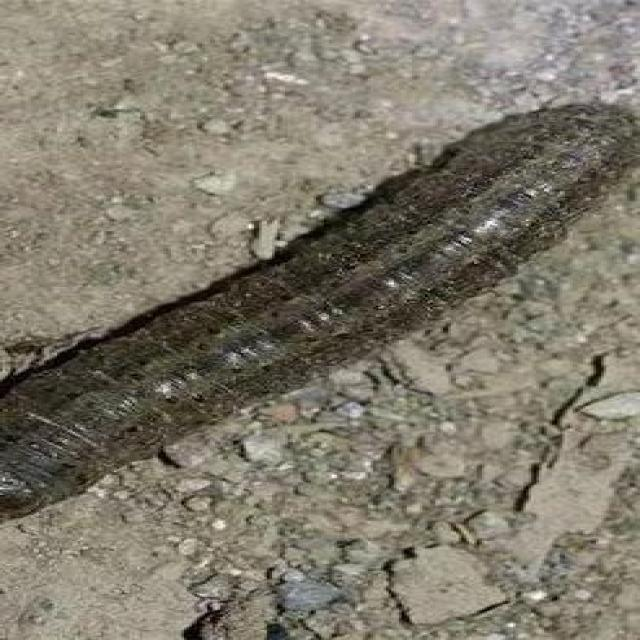black cutworm: (3, 98, 640, 529)
